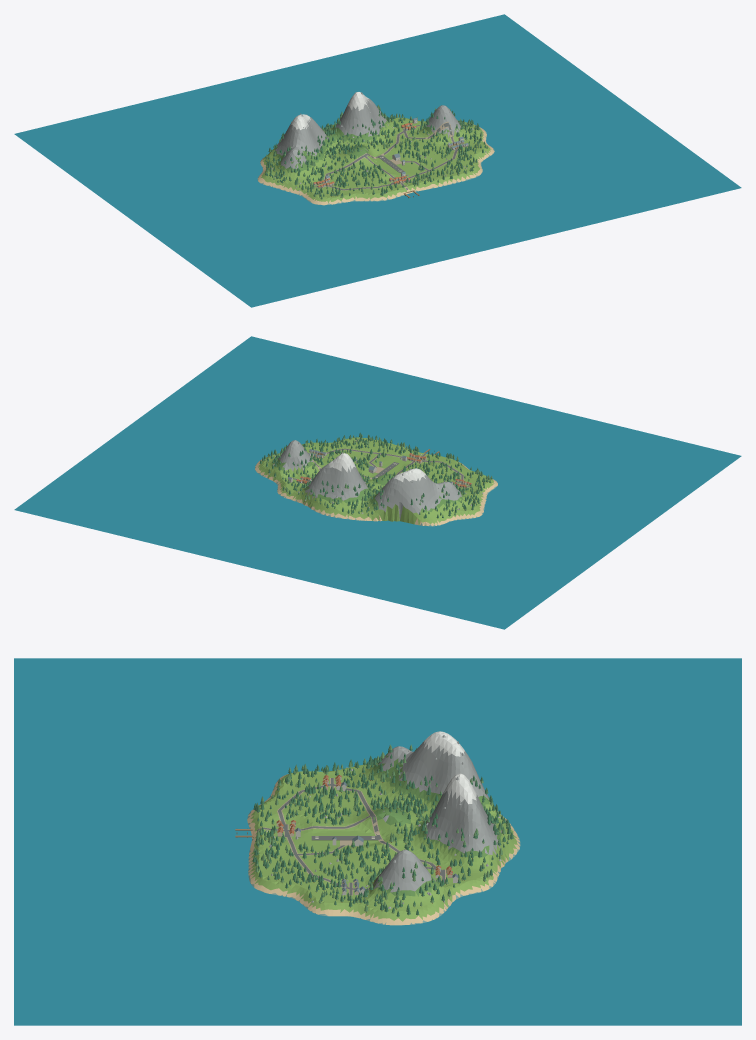
File: island_large.glb
The picture shows the model from 3 angles, top to bottom: view 1: azimuth 30°, elevation 25°; view 2: azimuth 150°, elevation 25°; view 3: azimuth 270°, elevation 25°; orthographic projection. The views are drawn at different scales.
Visible parts, largest first — view 1: LowPolyIsland_Water_Expanded, LowPolyIsland_Expanded, Pine_Forests_1050_Trees, Connected_Roads_and_Gravel_Shoulders, Four_Villages_Houses_and_Civic_Buildings; view 2: LowPolyIsland_Water_Expanded, LowPolyIsland_Expanded, Pine_Forests_1050_Trees, Four_Villages_Houses_and_Civic_Buildings; view 3: LowPolyIsland_Water_Expanded, LowPolyIsland_Expanded, Pine_Forests_1050_Trees, Connected_Roads_and_Gravel_Shoulders, Four_Villages_Houses_and_Civic_Buildings.
Part boxes in pixels (x1=…): LowPolyIsland_Water_Expanded: x1=14, y1=14, x2=741, y2=307; LowPolyIsland_Expanded: x1=257, y1=92, x2=494, y2=205; Pine_Forests_1050_Trees: x1=265, y1=105, x2=487, y2=199; Connected_Roads_and_Gravel_Shoulders: x1=315, y1=121, x2=463, y2=190; Four_Villages_Houses_and_Civic_Buildings: x1=313, y1=118, x2=468, y2=188; LowPolyIsland_Water_Expanded: x1=14, y1=336, x2=741, y2=629; LowPolyIsland_Expanded: x1=255, y1=437, x2=497, y2=526; Pine_Forests_1050_Trees: x1=259, y1=432, x2=492, y2=518; Four_Villages_Houses_and_Civic_Buildings: x1=288, y1=449, x2=471, y2=488; LowPolyIsland_Water_Expanded: x1=14, y1=658, x2=741, y2=1025; LowPolyIsland_Expanded: x1=247, y1=731, x2=520, y2=925; Pine_Forests_1050_Trees: x1=252, y1=744, x2=513, y2=916; Connected_Roads_and_Gravel_Shoulders: x1=257, y1=778, x2=445, y2=895; Four_Villages_Houses_and_Civic_Buildings: x1=276, y1=775, x2=458, y2=895.
Bounding box in the file's own units: 707 × 72.74 × 593.
